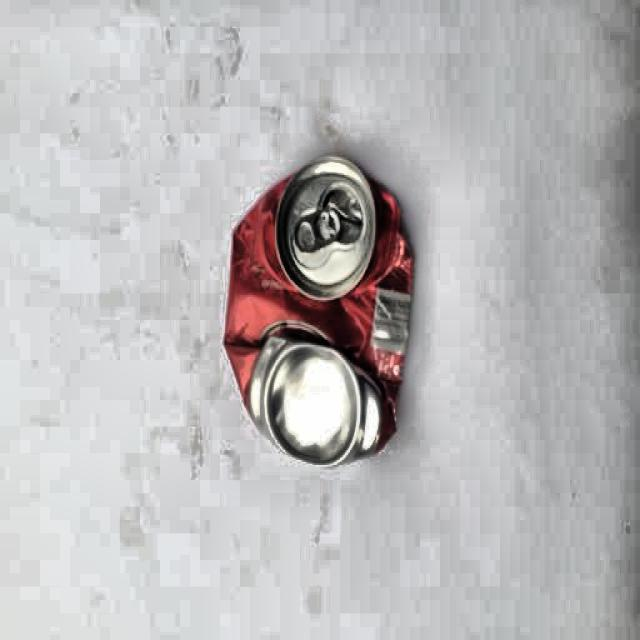metal: (218, 153, 412, 467)
